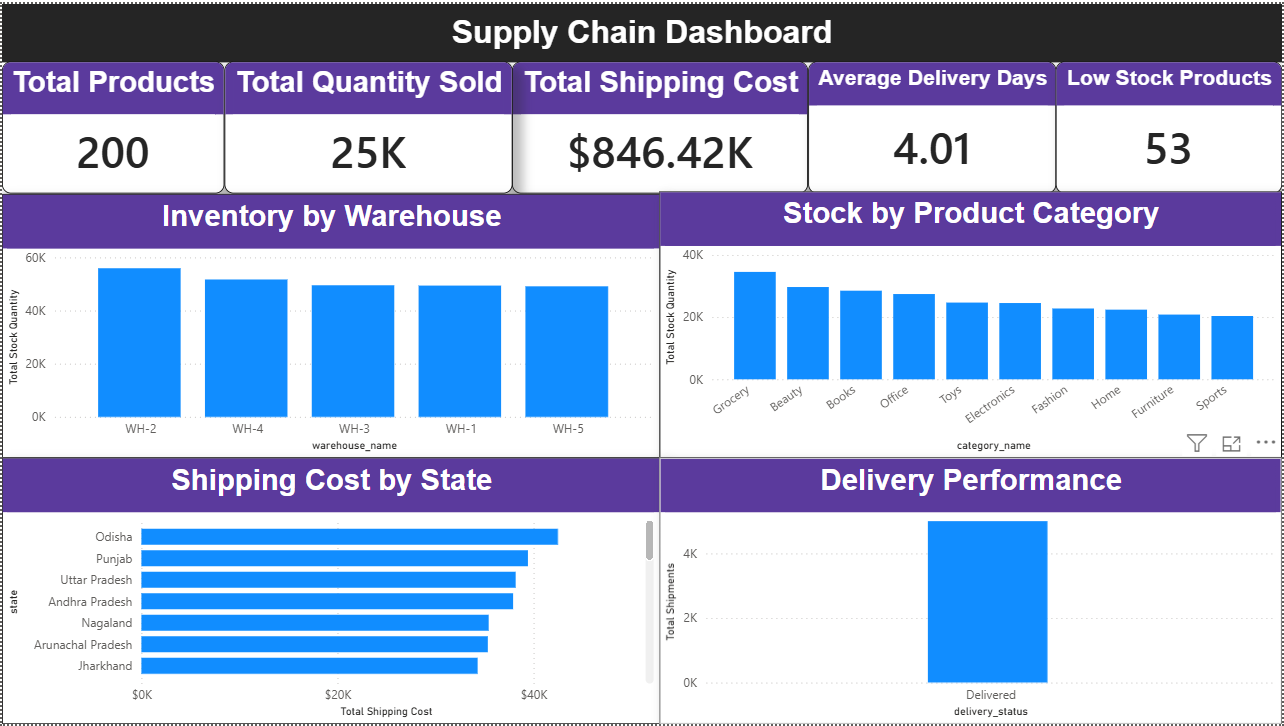

This screenshot's page, from the dashboard's own definition file:
{"tool":"powerbi","page":{"name":"Supply Chain Dashboard","canvas":[1280,720],"ordinal":4},"visuals":[{"type":"textbox","title":"Supply Chain Dashboard","box":[0,0,1280,58.6],"z":0},{"type":"cardVisual","title":"Total Products","fields":{"Data":["Measures (2).Total Products"]},"box":[0,58,222,132],"z":1000},{"type":"cardVisual","title":"Total Shipping Cost","fields":{"Data":["Measures (2).Total Shipping Cost"]},"box":[510,58,296,132],"z":2000},{"type":"cardVisual","title":"Average Delivery Days","fields":{"Data":["Measures (2).Average Delivery Days"]},"box":[806,58,248,132],"z":3000},{"type":"cardVisual","title":"Total Quantity Sold","fields":{"Data":["Measures (2).Total Quantity Sold"]},"box":[222,58,288,132],"z":4000},{"type":"cardVisual","title":"Low Stock Products","fields":{"Data":["Measures (2).Low Stock Products"]},"box":[1054,58,226,132],"z":5000},{"type":"clusteredColumnChart","title":"Inventory by Warehouse","fields":{"Category":["public warehouses.warehouse_name"],"Y":["Measures (2).Total Stock Quantity"]},"box":[0,190,658,264],"z":6000},{"type":"clusteredColumnChart","title":"Stock by Product Category","fields":{"Category":["public categories.category_name"],"Y":["Measures (2).Total Stock Quantity"]},"box":[658,188,622,266],"z":7000},{"type":"barChart","title":"Shipping Cost by State","fields":{"Category":["public customers.state"],"Y":["Measures (2).Total Shipping Cost"]},"box":[0,454,658,266],"z":8000},{"type":"columnChart","title":"Delivery Performance","fields":{"Category":["public shipping.delivery_status"],"Y":["Measures (2).Total Shipments"]},"box":[658,454,622,266],"z":9000}]}

Visuals, with their boxes in screenshot pixels (x1, y1, x2, y2), scaled from the page's 1280x720 canvas onto the 1284x726 screenshot:
"Supply Chain Dashboard" textbox: (left=0, top=0, right=1283, bottom=59)
"Total Products" cardVisual: (left=0, top=58, right=223, bottom=192)
"Total Shipping Cost" cardVisual: (left=512, top=58, right=809, bottom=192)
"Average Delivery Days" cardVisual: (left=809, top=58, right=1057, bottom=192)
"Total Quantity Sold" cardVisual: (left=223, top=58, right=512, bottom=192)
"Low Stock Products" cardVisual: (left=1057, top=58, right=1283, bottom=192)
"Inventory by Warehouse" clusteredColumnChart: (left=0, top=192, right=660, bottom=458)
"Stock by Product Category" clusteredColumnChart: (left=660, top=190, right=1283, bottom=458)
"Shipping Cost by State" barChart: (left=0, top=458, right=660, bottom=725)
"Delivery Performance" columnChart: (left=660, top=458, right=1283, bottom=725)
